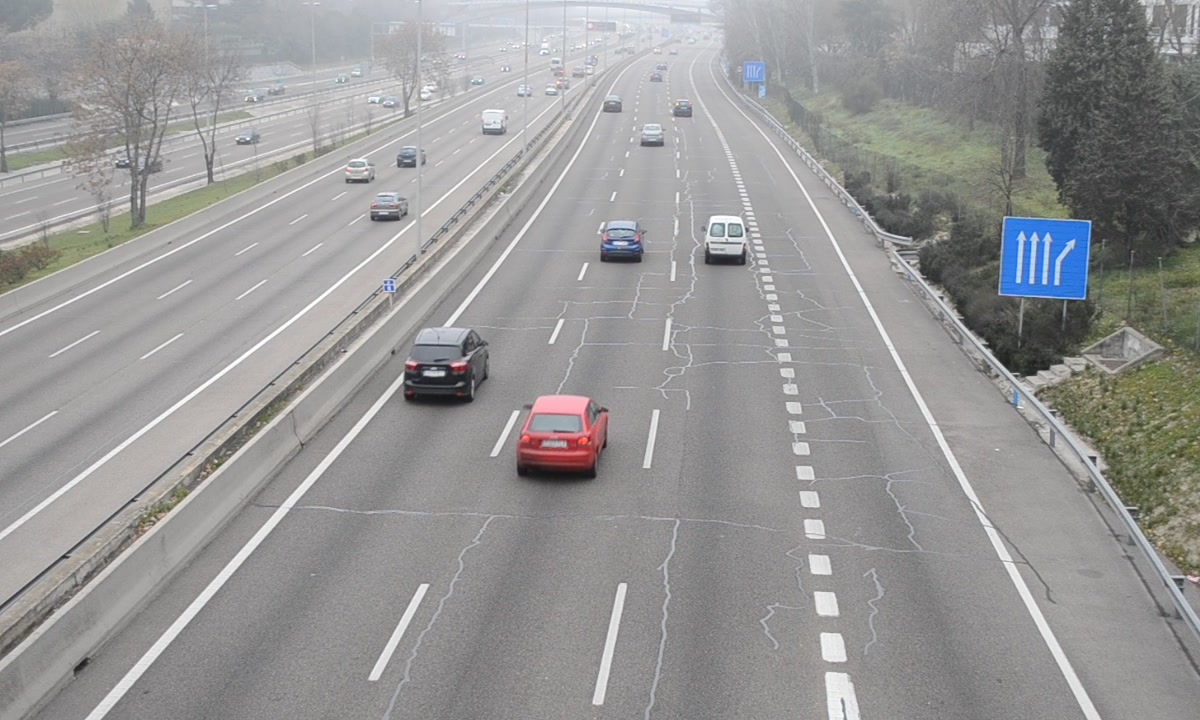car: (513, 396, 606, 477), (404, 327, 487, 402), (600, 221, 645, 264), (640, 122, 664, 146)
van: (704, 215, 747, 262)
